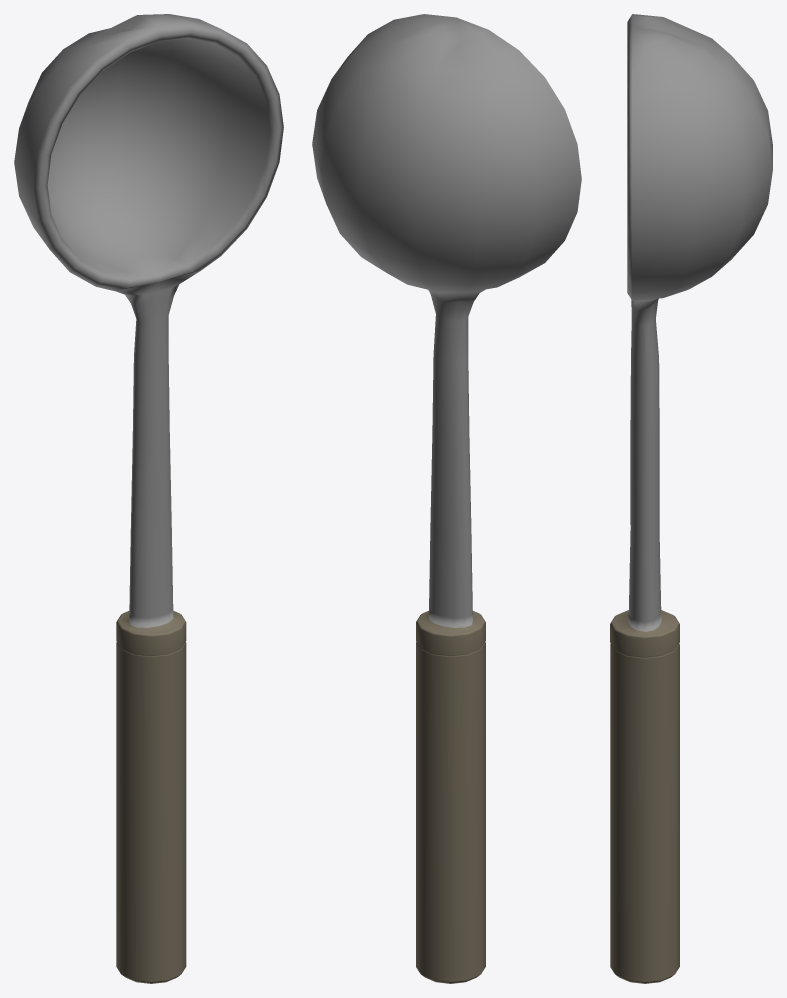
3 views of the same model, side by side, from view 1: azimuth 30°, elevation 25°; view 2: azimuth 150°, elevation 25°; view 3: azimuth 270°, elevation 25° (orthographic).
Parts seen in each view (by area): view 1: pSphere4; view 2: pSphere4; view 3: pSphere4.
Part boxes in pixels (<box>): pSphere4: <box>14,14,283,983</box>; pSphere4: <box>312,14,581,983</box>; pSphere4: <box>610,14,772,983</box>.
Size of the model in its own units: 2 by 7.23 by 1.13.
